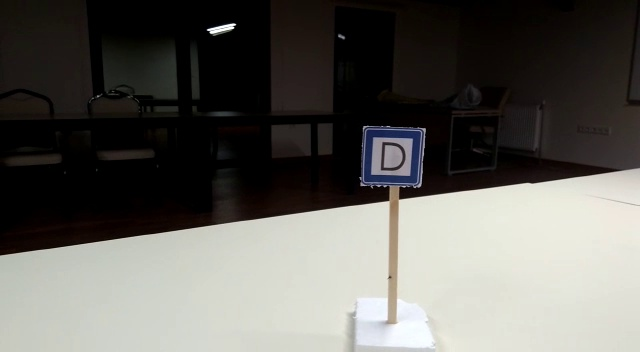durak: (359, 127, 426, 186)
